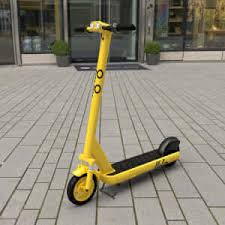kick_board: (65, 20, 181, 205)
kick_handler: (75, 22, 136, 34)
kick_neck: (84, 40, 110, 155)
kick_wheel: (66, 172, 98, 205), (159, 137, 181, 165)
